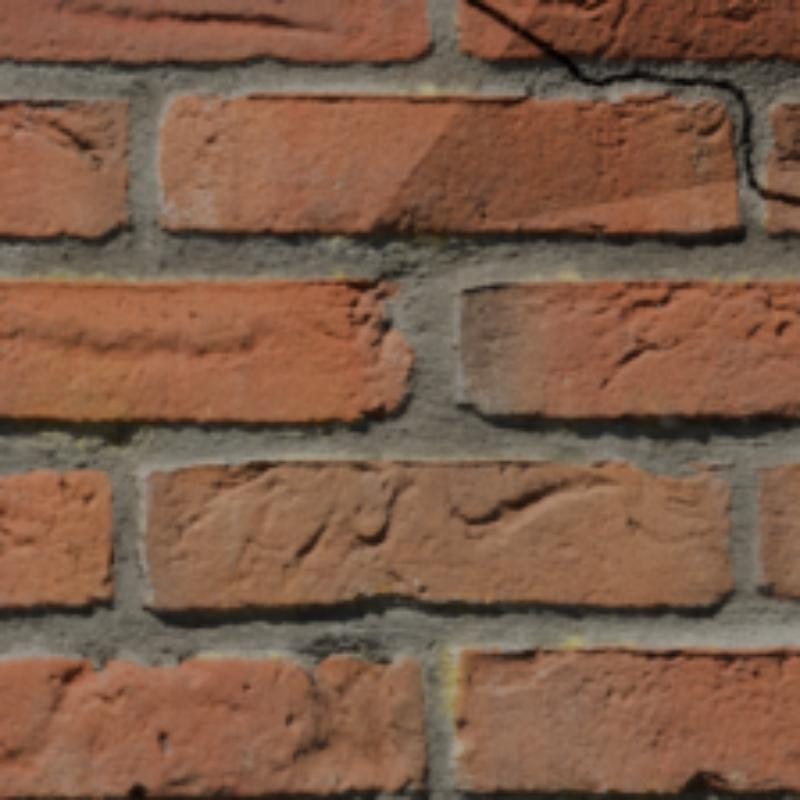crack: (464, 0, 796, 204)
